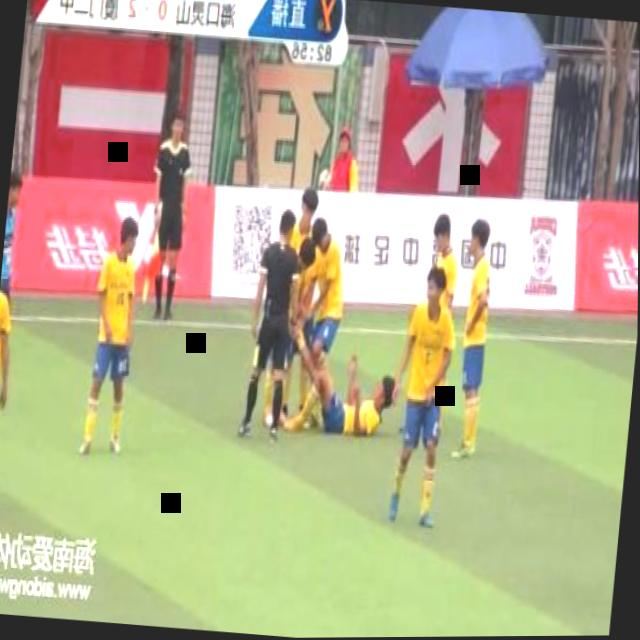Fall-Detected: (282, 325, 407, 450)
